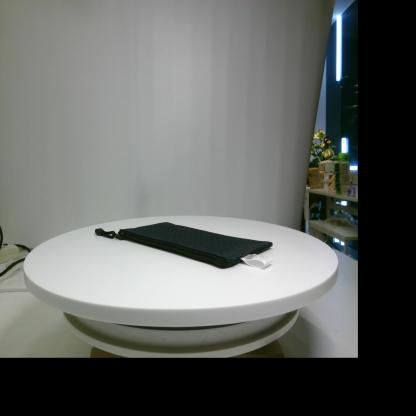Stationery: (95, 222, 273, 269)
